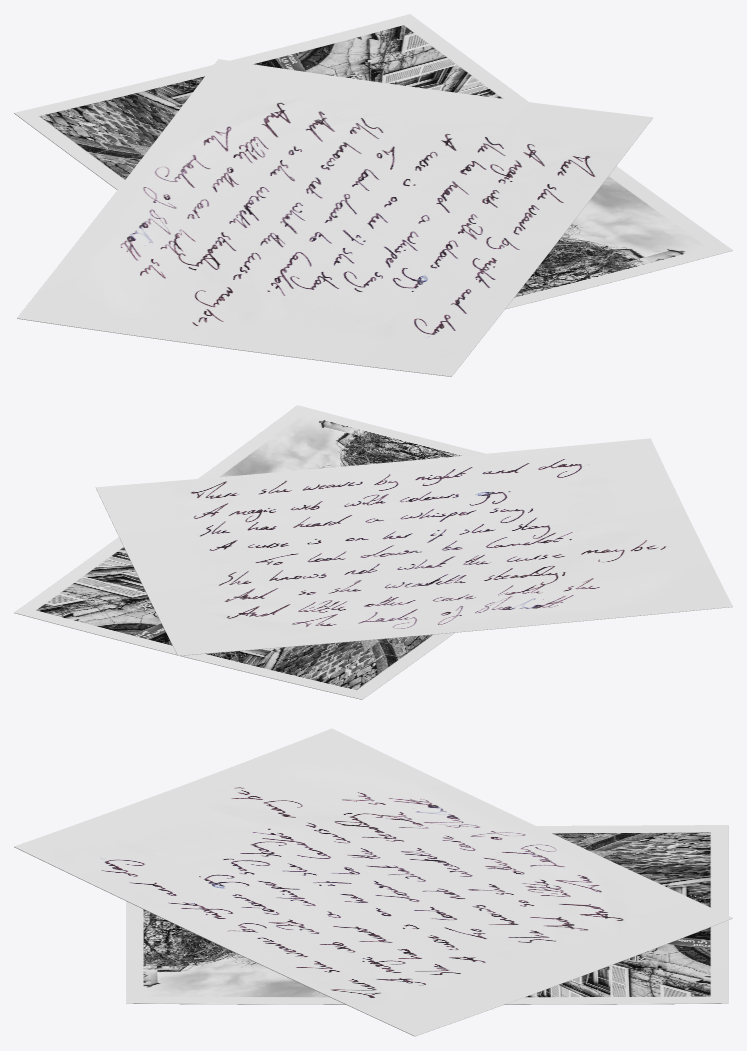
Rendered from postcard.glb.
The picture shows the model from 3 angles, top to bottom: view 1: azimuth 30°, elevation 25°; view 2: azimuth 150°, elevation 25°; view 3: azimuth 270°, elevation 25°; orthographic projection. The views are drawn at different scales.
Parts seen in each view (by area): view 1: 03_postcards_1, 03_postcards_2; view 2: 03_postcards_1, 03_postcards_2; view 3: 03_postcards_1, 03_postcards_2.
Part boxes in pixels (x1,y1,x2,y2): 03_postcards_1: (17,59,653,376); 03_postcards_2: (14,14,732,309); 03_postcards_1: (95,438,732,655); 03_postcards_2: (14,405,485,699); 03_postcards_1: (14,728,732,1036); 03_postcards_2: (126,825,728,1004).
Size of the model in its own units: 0.1802 by 0.00158 by 0.1768.
1 material, 1 textured.
